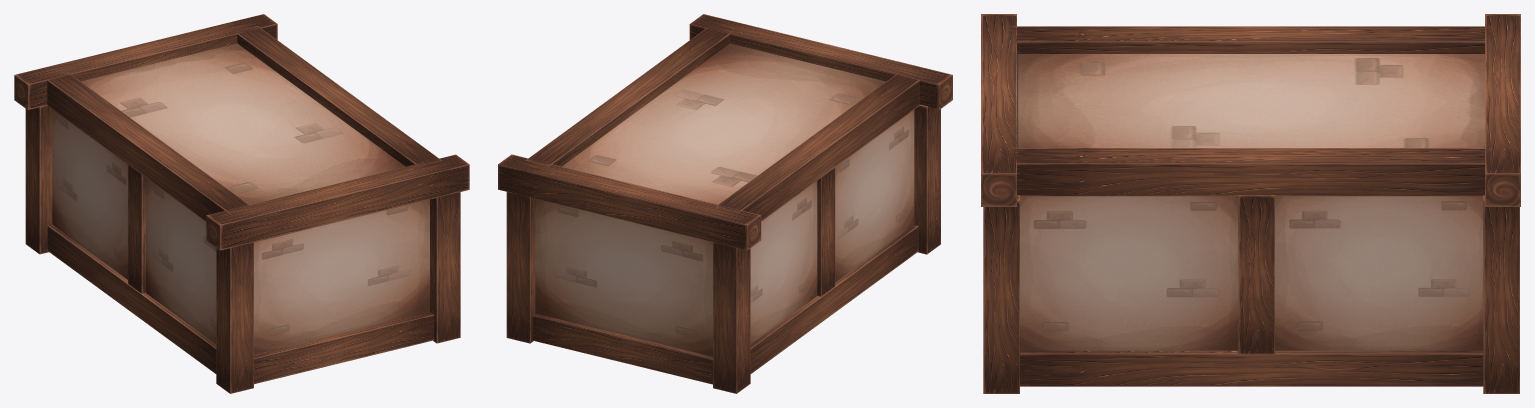
File: houseblock2.fbx
The picture shows the model from 3 angles, left to right: view 1: azimuth 30°, elevation 25°; view 2: azimuth 150°, elevation 25°; view 3: azimuth 270°, elevation 25°; orthographic projection. The views are drawn at different scales.
Parts seen in each view (by area): view 1: polySurface42; view 2: polySurface42; view 3: polySurface42.
Boxes of the visible parts, x1,y1,x2,y2 form: polySurface42: (14, 14, 469, 393); polySurface42: (498, 14, 952, 393); polySurface42: (981, 14, 1520, 393).
Bounding box in the file's own units: 6.24 × 4.1 × 8.9.
